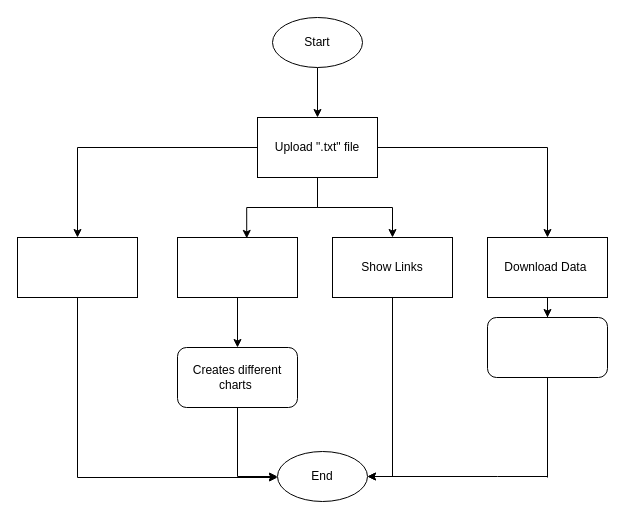
The diagram is 625 pixels wide and 519 high, and some of its shapes have lost their labels. The shapes that lost their labels are listed below. From the top down, each one's centre as x and y in pixels, then its label:
At point 77,267: "Show Raw Data".
At point 237,267: "Show Analysis".
At point 547,347: "Save excel file".
